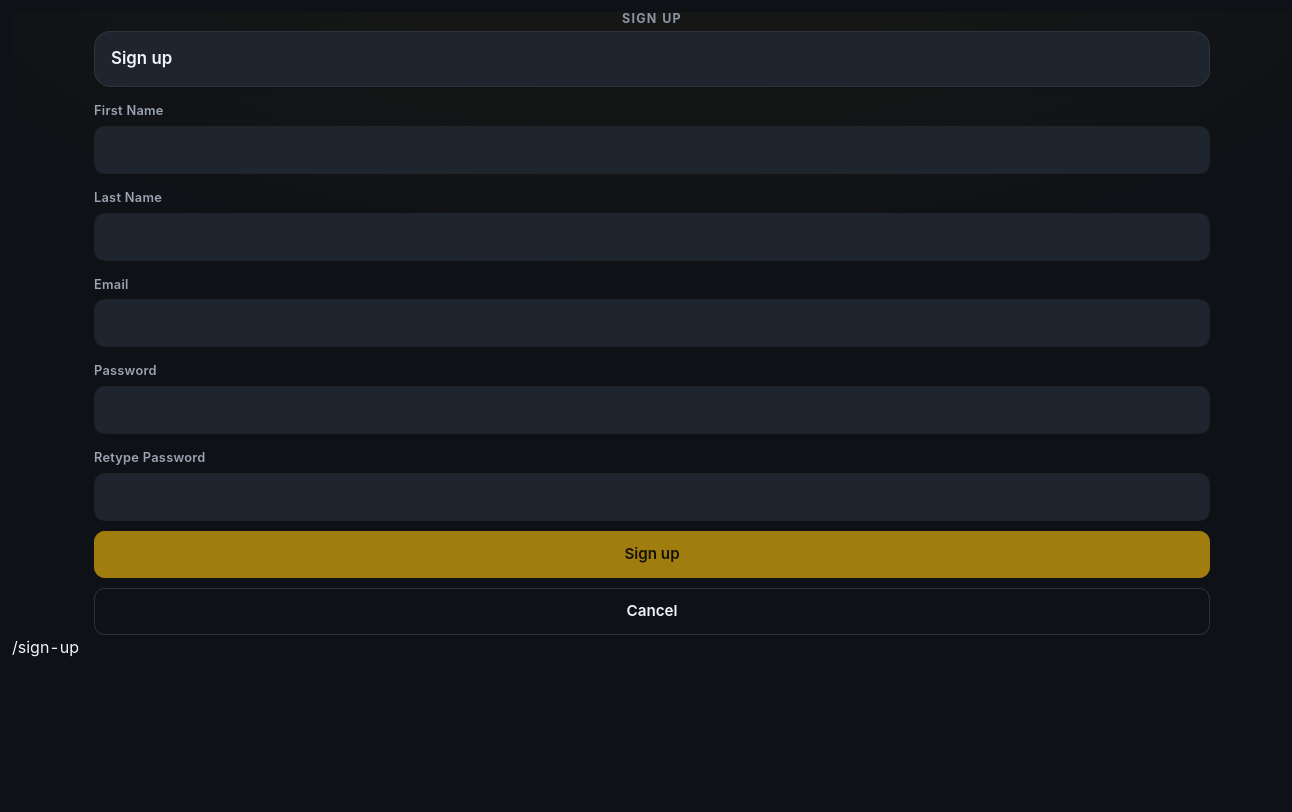
Test: SignUpScreen › submits without the confirmation field and lands on /account
In the field labelled "First Name": (652, 150) [94,126,1210,174], type "Jane"
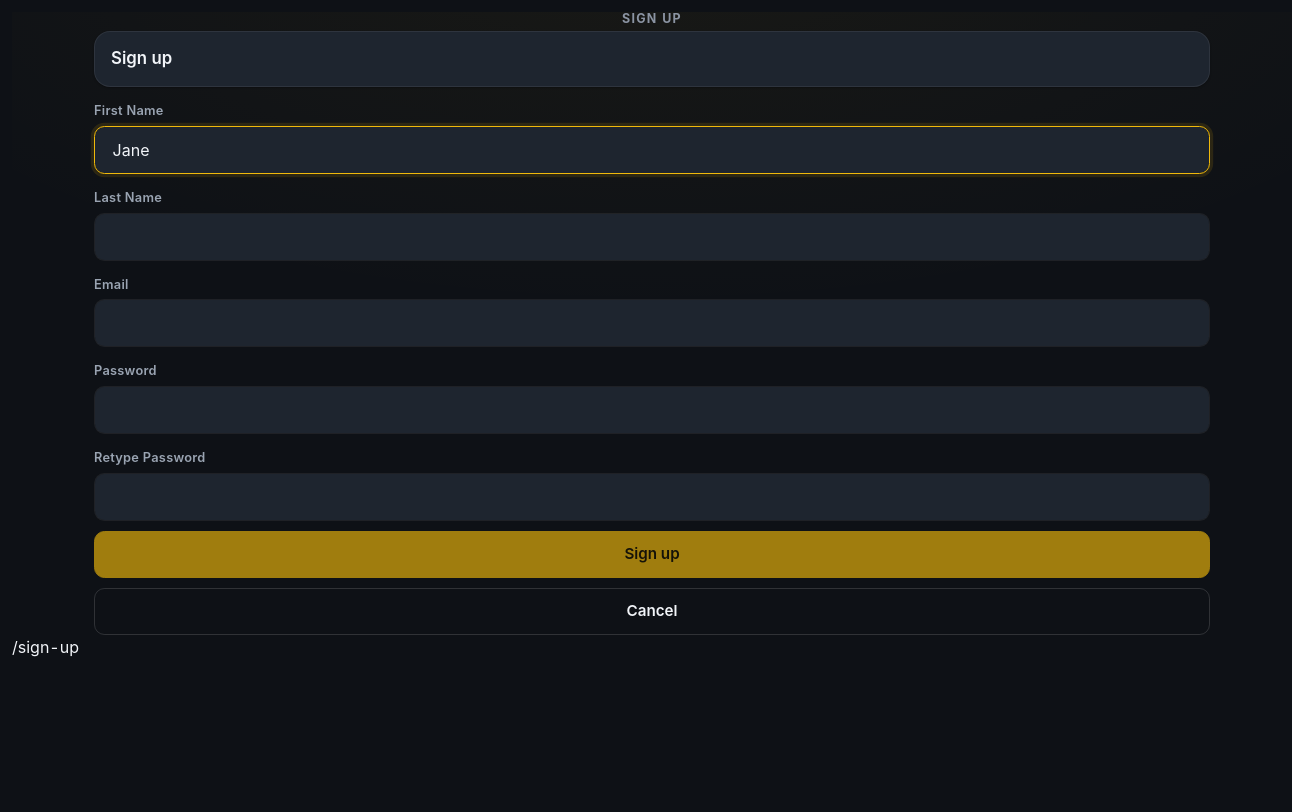
In the field labelled "Last Name": (652, 236) [94,212,1210,260], type "Doe"
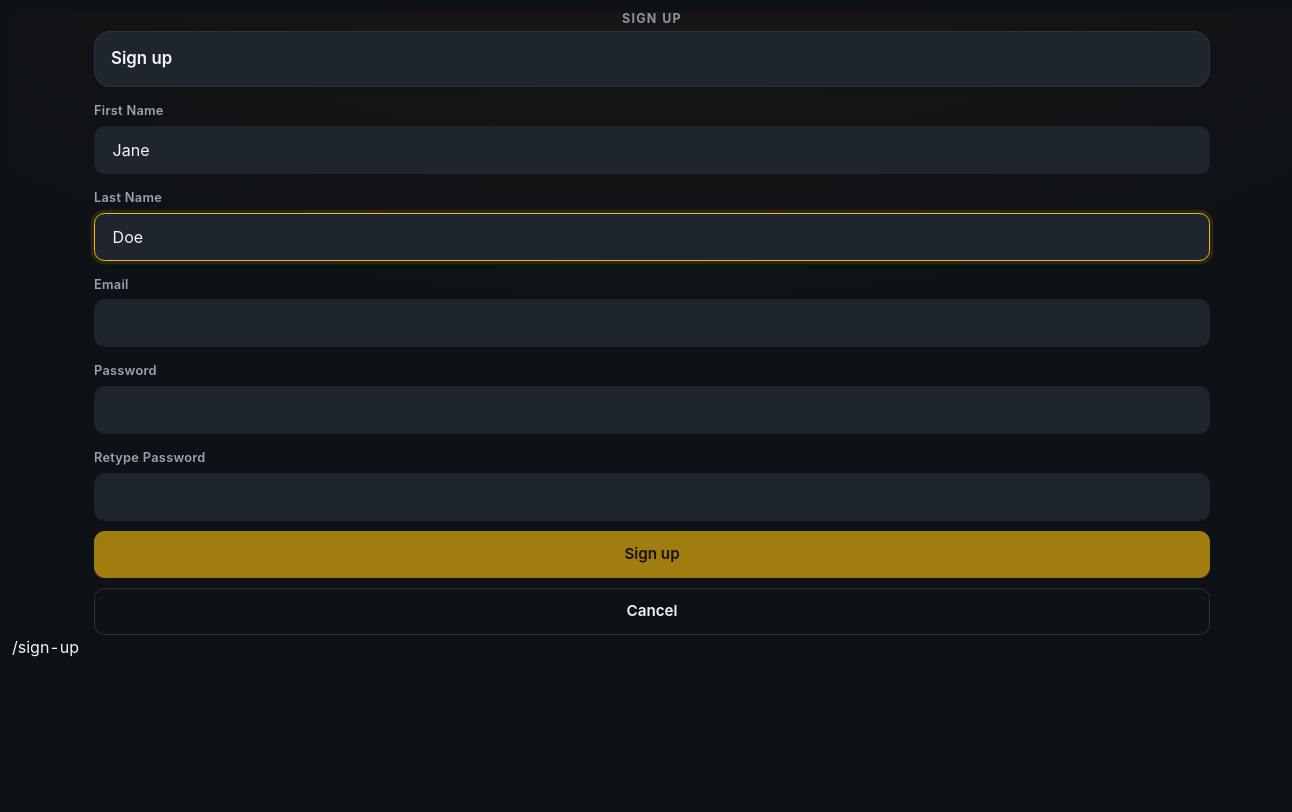
In the field labelled "Email": (652, 323) [94,299,1210,347], type "jane@example.com"
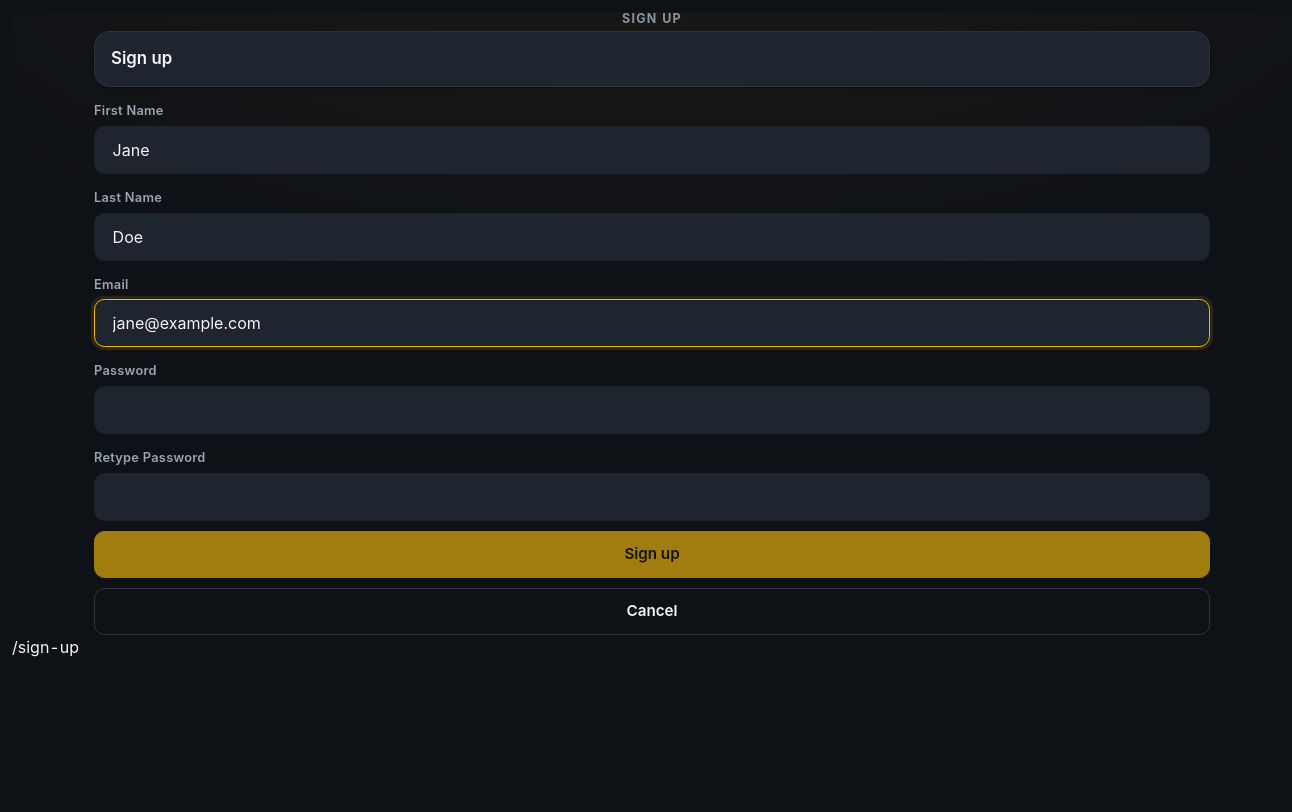
In the password field labelled "Password": (652, 410) [94,386,1210,434], type "hunter22!"
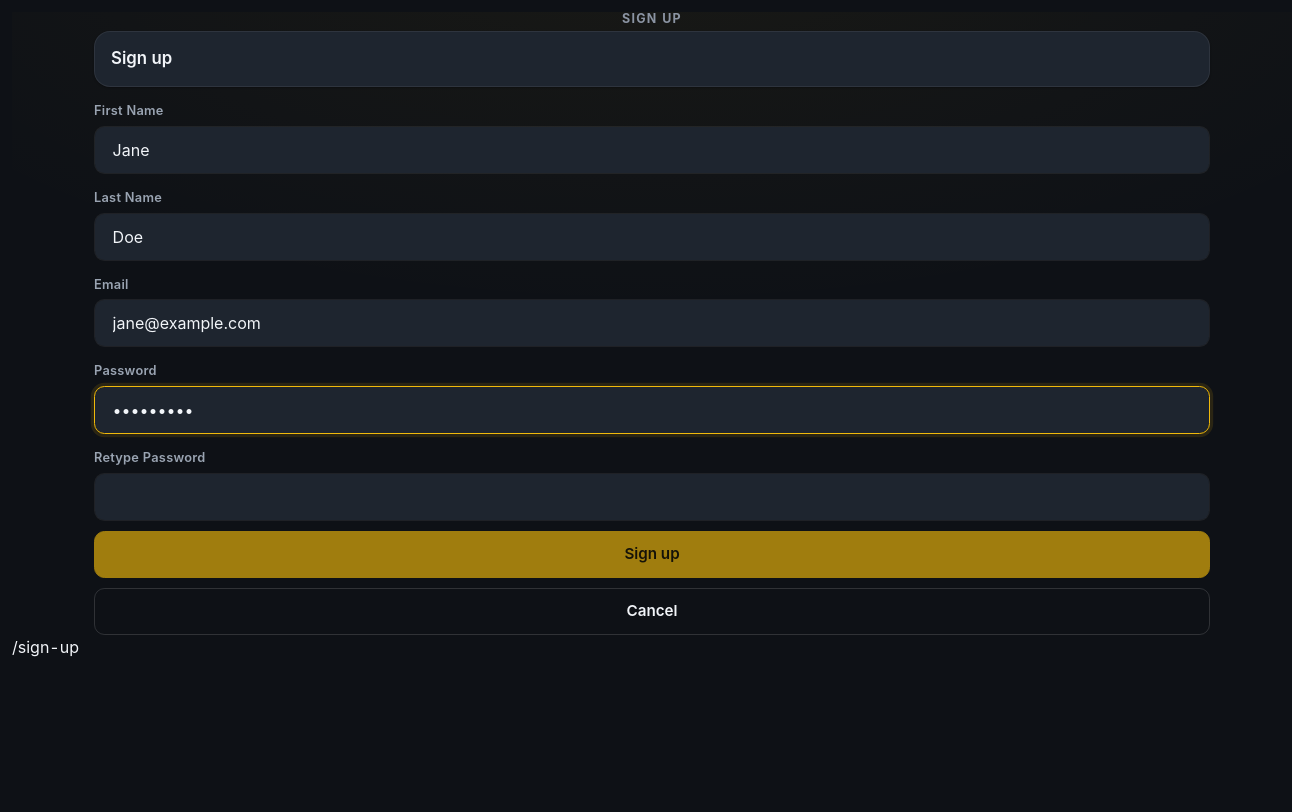
In the password field labelled "Retype Password": (652, 497) [94,473,1210,521], type "hunter22!"
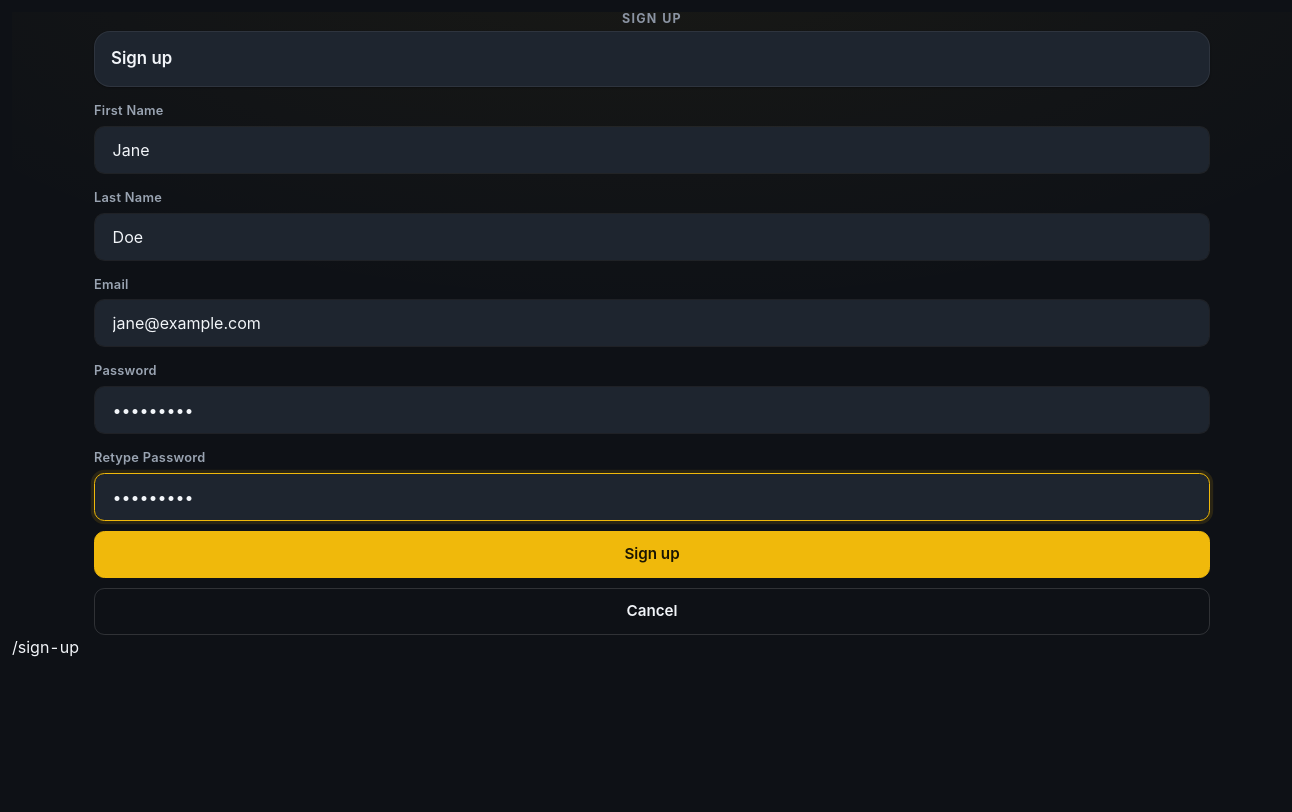
Click the button "Sign up": (652, 554) [94,531,1210,578]
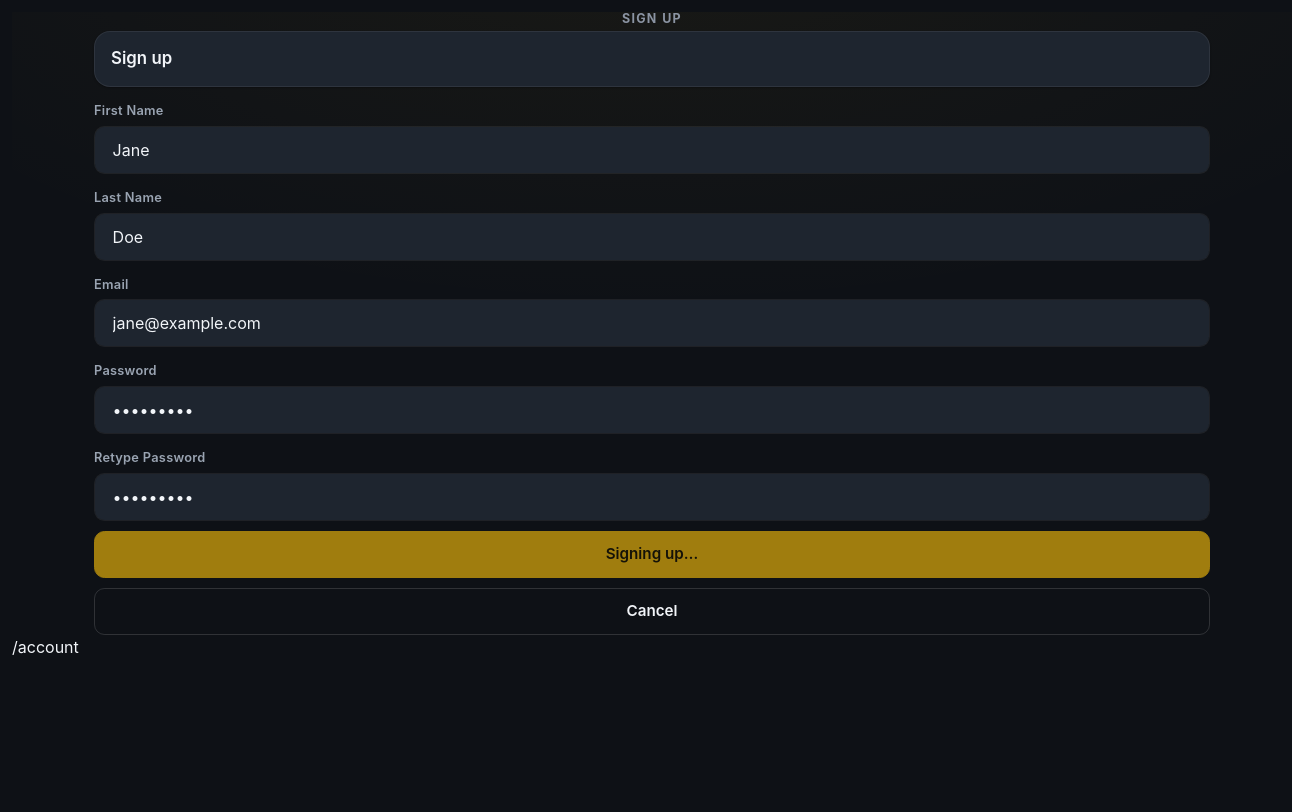
Result: the text with test id "location" reads "/account" at [12,637,79,657]
